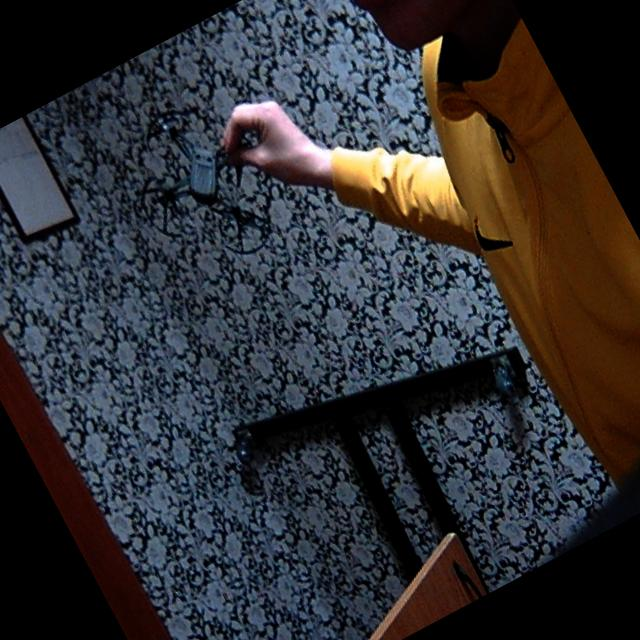drone: (85, 44, 329, 298)
